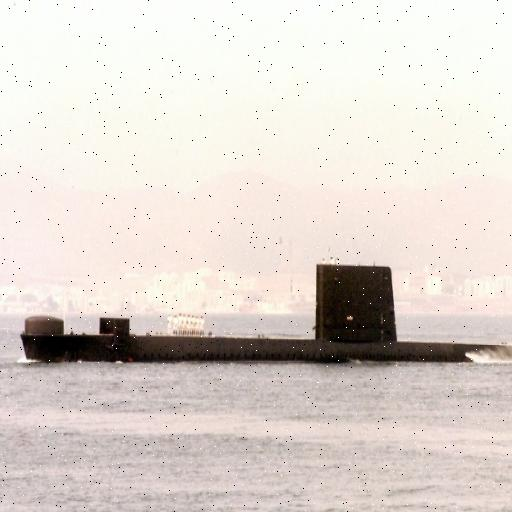submarine: (27, 264, 512, 363)
